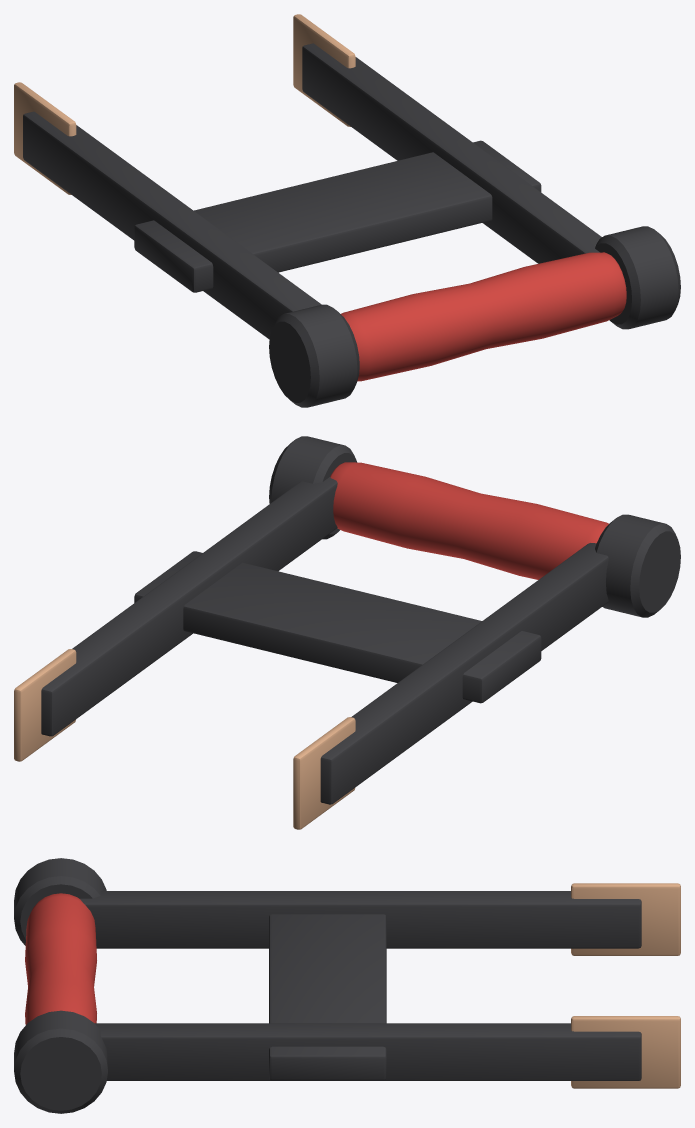
File: knife_lever.glb
The picture shows the model from 3 angles, top to bottom: view 1: azimuth 30°, elevation 25°; view 2: azimuth 150°, elevation 25°; view 3: azimuth 270°, elevation 25°; orthographic projection. The views are drawn at different scales.
Visible parts, largest first — view 1: knife_lever; view 2: knife_lever; view 3: knife_lever.
Boxes of the visible parts, bbox=[...] form: knife_lever: bbox=[14, 14, 680, 407]; knife_lever: bbox=[14, 436, 680, 829]; knife_lever: bbox=[14, 858, 680, 1113].
Size of the model in its own units: 0.265 by 0.06 by 0.425.
